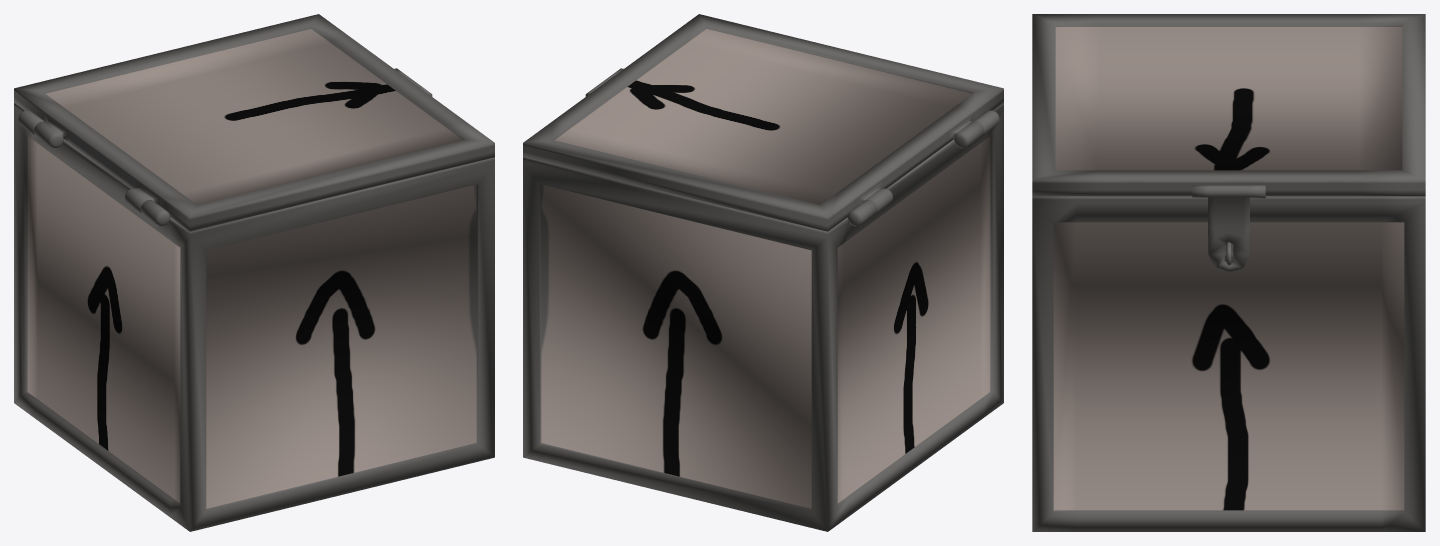
File: deliverybox.fbx
3 renders of one model, left to right at view 1: azimuth 30°, elevation 25°; view 2: azimuth 150°, elevation 25°; view 3: azimuth 270°, elevation 25°, orthographic. The views are drawn at different scales.
Parts seen in each view (by area): view 1: DeliveryBox, DeliveryBoxLid; view 2: DeliveryBox, DeliveryBoxLid; view 3: DeliveryBox, DeliveryBoxLid, DeliveryBoxLidLatch.
Boxes of the visible parts, box(x1,y1,x2,y2) form: DeliveryBox: box(14, 103, 494, 531); DeliveryBoxLid: box(14, 14, 494, 231); DeliveryBox: box(523, 103, 1003, 531); DeliveryBoxLid: box(523, 14, 1003, 231); DeliveryBox: box(1032, 196, 1425, 531); DeliveryBoxLid: box(1032, 14, 1425, 198); DeliveryBoxLidLatch: box(1208, 185, 1249, 273).
Bounding box in the file's own units: 94.16 × 83.84 × 85.
